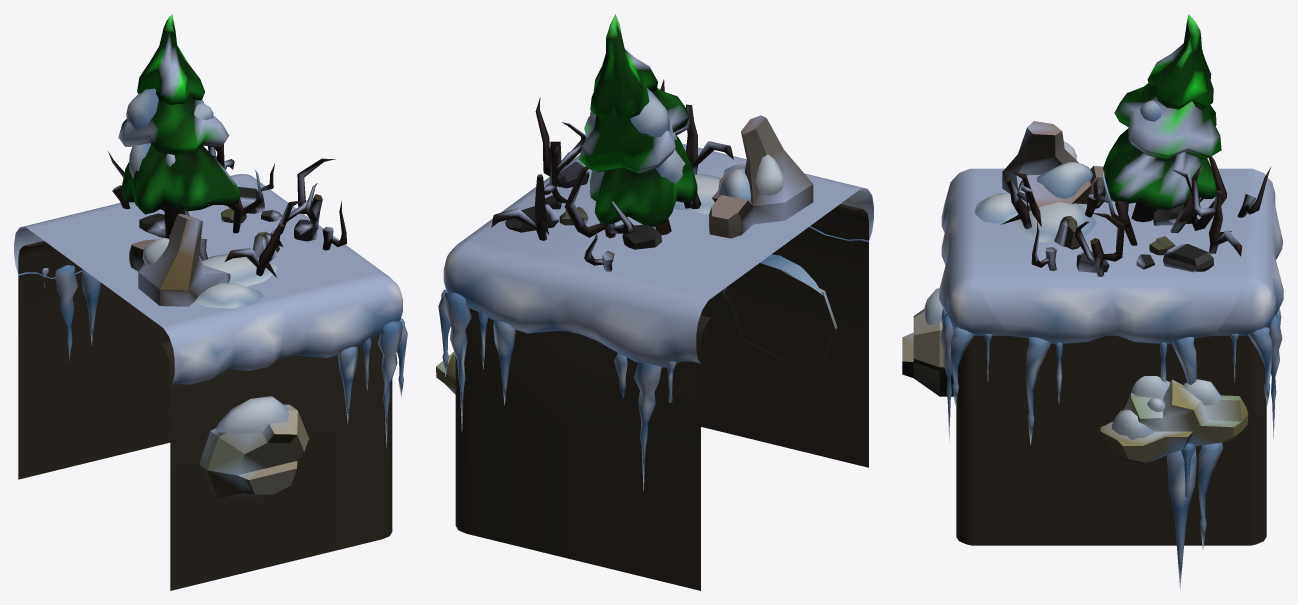
The model's file is Island_04.fbx.
3 views of the same model, side by side, from view 1: azimuth 30°, elevation 25°; view 2: azimuth 150°, elevation 25°; view 3: azimuth 270°, elevation 25° (orthographic). The views are drawn at different scales.
Visible parts, largest first — view 1: Island_04; view 2: Island_04; view 3: Island_04.
Part boxes in pixels (bbox=[...]): Island_04: bbox=[14, 14, 407, 590]; Island_04: bbox=[436, 14, 873, 590]; Island_04: bbox=[902, 14, 1283, 589].
Size of the model in its own units: 4600 by 8430 by 5654.
